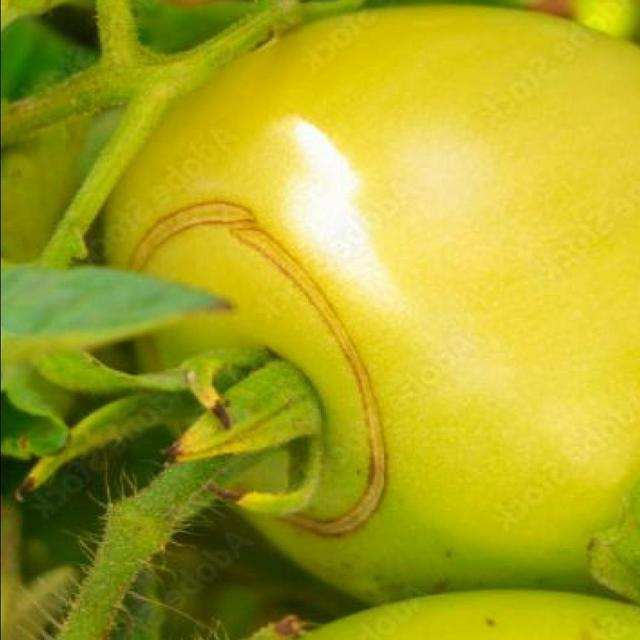Cracking Fruit: (73, 130, 268, 366)
